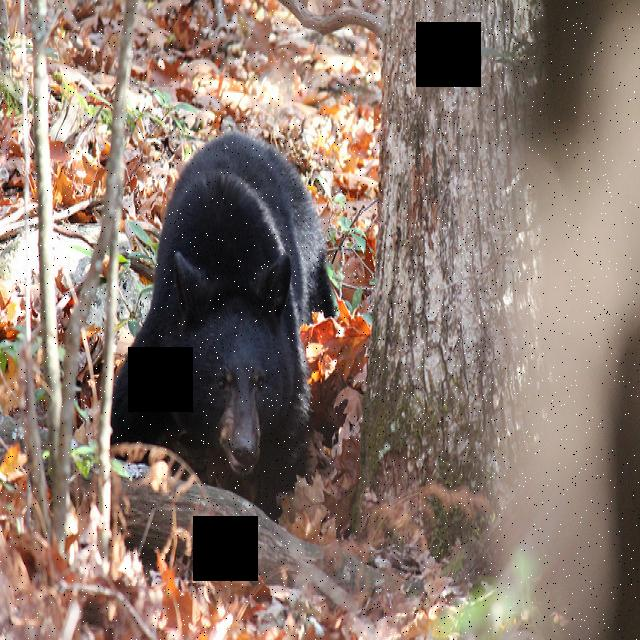Bear: (119, 125, 341, 519)
